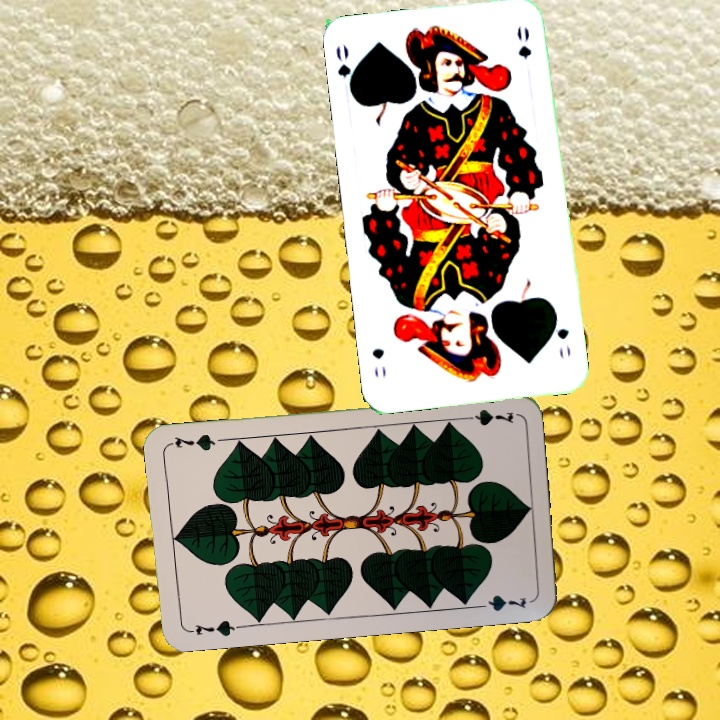G7: (457, 405, 516, 428), (184, 616, 243, 639)
GO: (332, 41, 360, 99), (549, 309, 574, 361)
